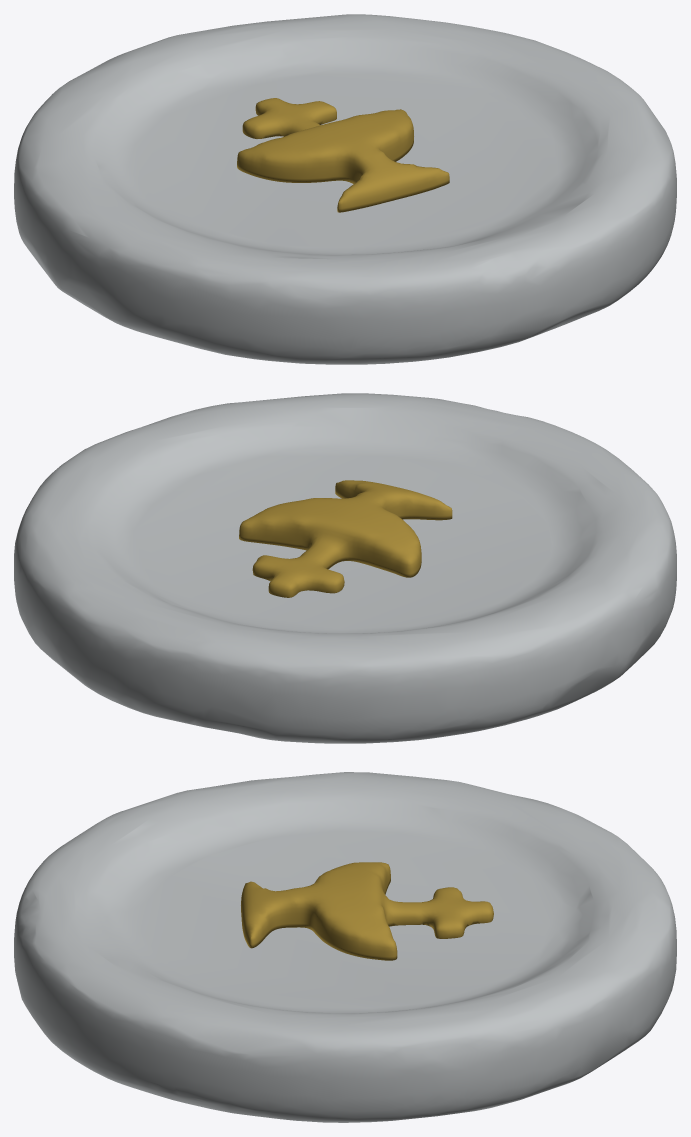
The model's file is token-cleric-blue-draco.glb.
The picture shows the model from 3 angles, top to bottom: view 1: azimuth 30°, elevation 25°; view 2: azimuth 150°, elevation 25°; view 3: azimuth 270°, elevation 25°; orthographic projection.
Visible parts, largest first — view 1: token_cleric_blue; view 2: token_cleric_blue; view 3: token_cleric_blue.
Part boxes in pixels (bbox=[...]): token_cleric_blue: bbox=[14, 14, 676, 364]; token_cleric_blue: bbox=[14, 393, 676, 743]; token_cleric_blue: bbox=[14, 772, 676, 1122].
Size of the model in its own units: 0.4139 by 0.071 by 0.414.
